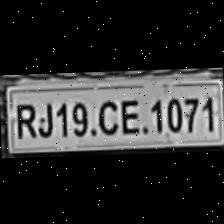0: (162, 92, 182, 132)
1: (142, 92, 164, 133), (50, 96, 68, 139), (198, 92, 216, 132)
7: (180, 91, 198, 132)
9: (66, 94, 90, 135)
C: (90, 94, 116, 135)
E: (115, 93, 141, 134)
J: (34, 96, 54, 137)
R: (11, 96, 35, 140)
